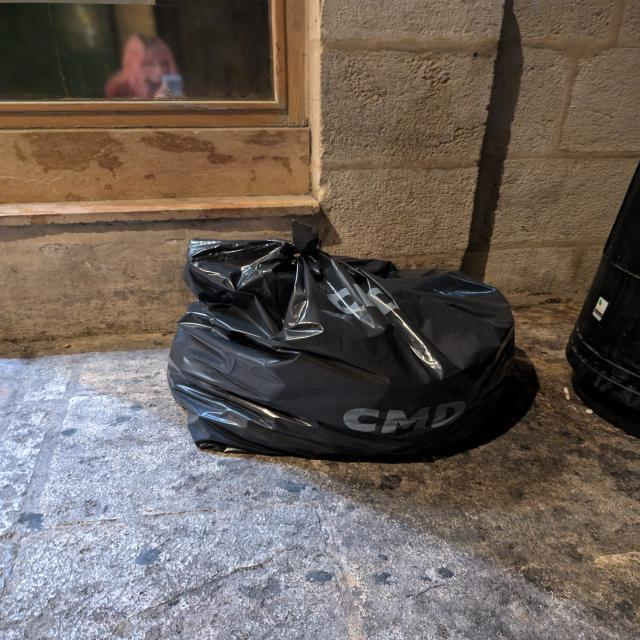Mixed Waste: (167, 221, 540, 465)
